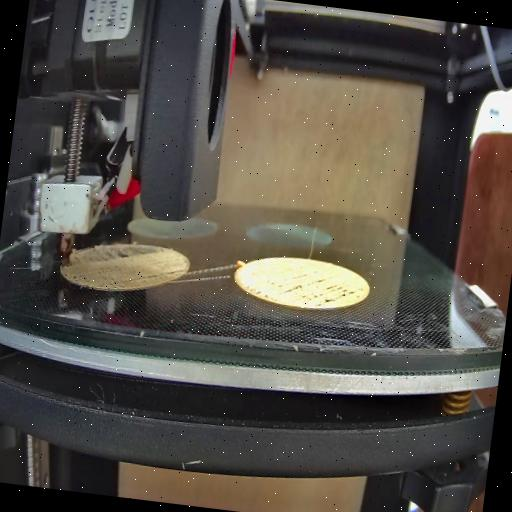under_extrusion: (244, 270, 368, 316), (62, 267, 126, 296), (96, 235, 139, 268), (135, 262, 182, 292)
